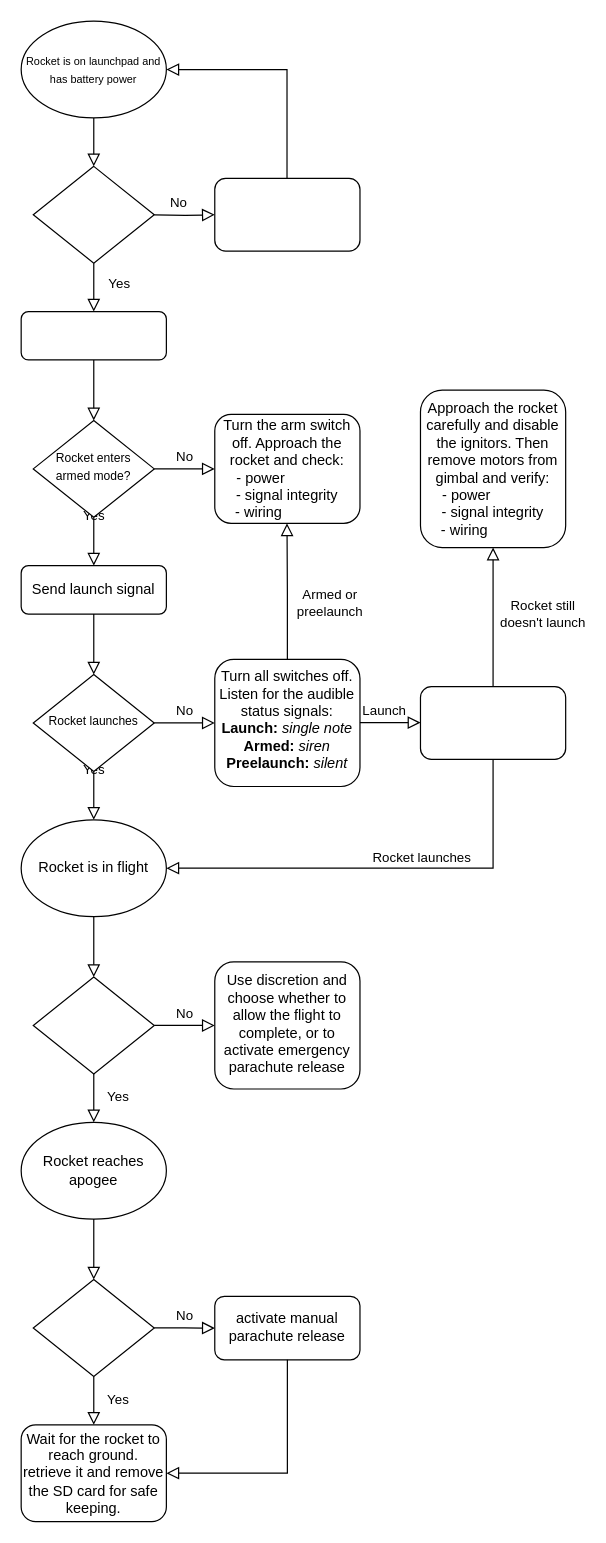
The diagram is 606 pixels wide and 1543 high, and some of its shapes have lost their labels. Here are the shapes that lost their labels. From the top down, the centre of each, then its label:
(x=93, y=214): Ready to launch?
(x=287, y=214): Then don't launch
(x=93, y=335): Send arm signal
(x=492, y=722): Wait for 1 minute with no power to base station
(x=93, y=1025): Rocket is in stable flight?
(x=93, y=1327): Parachute releases as expected?
